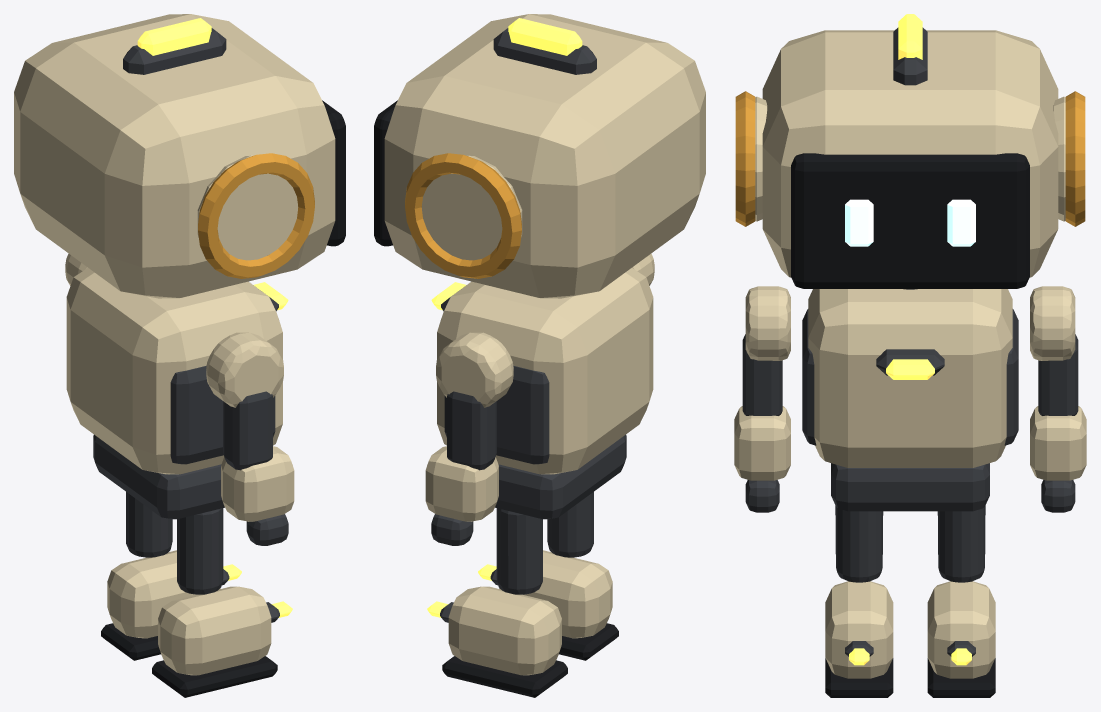
File: deckhand.glb
The picture shows the model from 3 angles, left to right: view 1: azimuth 30°, elevation 25°; view 2: azimuth 150°, elevation 25°; view 3: azimuth 270°, elevation 25°; orthographic projection.
Parts seen in each view (by area): view 1: head body, torso body, leg_r body, arm_r body, leg_l body; view 2: head body, torso body, leg_l body, arm_l body, leg_r body; view 3: head body, torso body, leg_l body, leg_r body, arm_l body, arm_r body, eye, eye.001.
Boxes of the visible parts, x1,y1,x2,y2 form: head body: [14, 14, 345, 298]; torso body: [66, 268, 288, 519]; leg_r body: [152, 508, 292, 697]; arm_r body: [206, 332, 294, 545]; leg_l body: [101, 492, 241, 660]; head body: [374, 14, 705, 298]; torso body: [431, 268, 653, 519]; leg_l body: [427, 508, 567, 697]; arm_l body: [425, 332, 513, 545]; leg_r body: [478, 492, 618, 660]; head body: [735, 14, 1085, 288]; torso body: [802, 289, 1018, 511]; leg_l body: [927, 505, 995, 697]; leg_r body: [825, 505, 893, 697]; arm_l body: [1030, 286, 1086, 512]; arm_r body: [734, 286, 790, 512]; eye: [845, 199, 873, 246]; eye.001: [947, 199, 975, 246].
Bounding box in the file's own units: 0.485 × 1.25 × 0.62.
